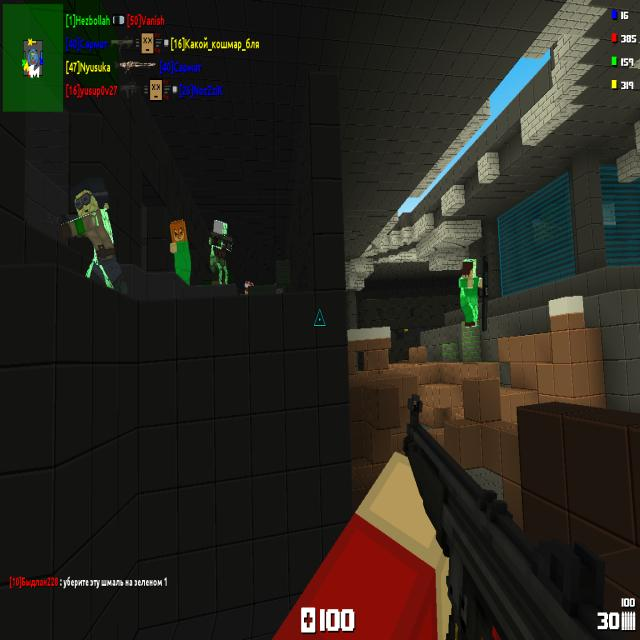enemy: (59, 178, 130, 296), (458, 258, 482, 327), (209, 218, 232, 285), (169, 218, 191, 285), (244, 280, 254, 294), (404, 329, 408, 332)
